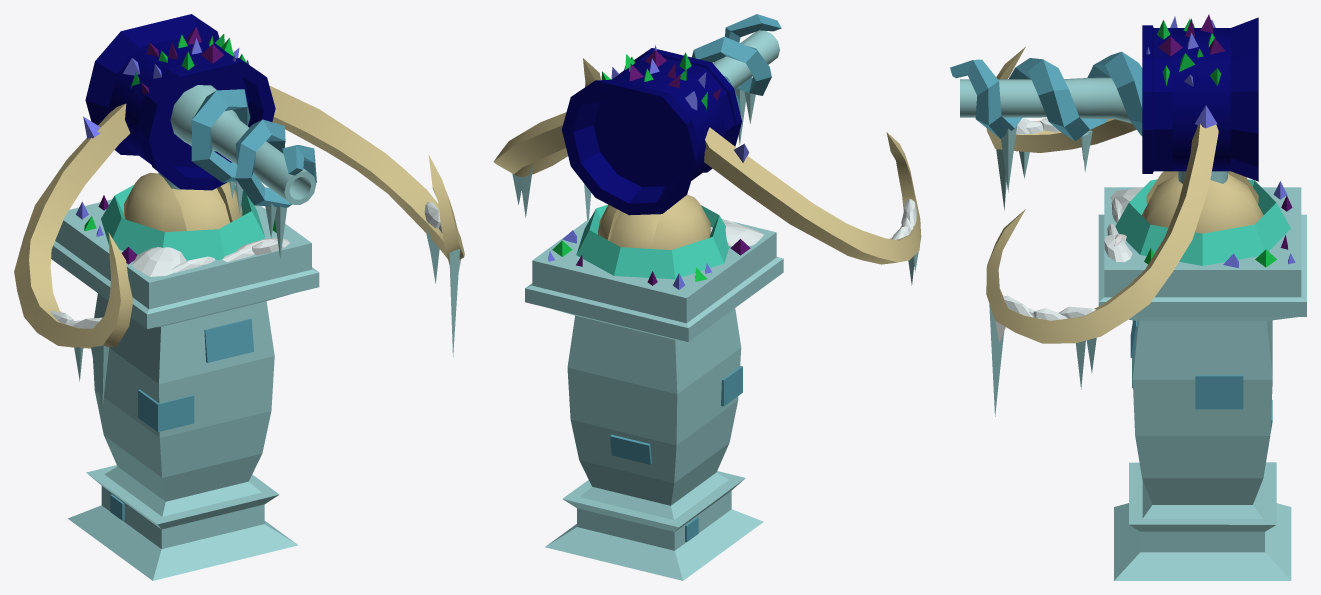
The model's file is Freeze.fbx.
The picture shows the model from 3 angles, left to right: view 1: azimuth 30°, elevation 25°; view 2: azimuth 150°, elevation 25°; view 3: azimuth 270°, elevation 25°; orthographic projection. The views are drawn at different scales.
Parts seen in each view (by area): view 1: Box002, Cylinder002, Box008, Box009, Cylinder004, Torus001, Sphere001, Cylinder003, Box003, Box006, Sphere012, Cone015 (+1 smaller); view 2: Box002, Cylinder002, Box008, Torus001, Sphere001, Box009, Cylinder004, Cylinder003, Box005, Sphere012, Box003; view 3: Box002, Cylinder002, Box009, Cylinder004, Torus001, Sphere001, Cylinder003, Box008, Box004, Cone015, Cone008, Sphere009.
Boxes of the visible parts, x1,y1,x2,y2 form: Box002: (51,199,319,580); Cylinder002: (85,14,275,190); Box008: (14,103,133,348); Box009: (269,86,464,264); Cylinder004: (190,89,316,207); Torus001: (101,185,265,260); Sphere001: (124,172,242,232); Cylinder003: (170,85,316,204); Box003: (138,389,194,431); Box006: (204,319,253,362); Sphere012: (132,247,186,276); Cone015: (449,249,459,357); Box002: (525,217,783,580); Cylinder002: (562,48,741,215); Box008: (704,127,920,264); Torus001: (576,204,729,279); Sphere001: (598,194,710,249); Box009: (493,58,600,177); Cylinder004: (691,14,781,113); Cylinder003: (713,30,779,89); Box005: (610,434,651,464); Sphere012: (710,223,763,246); Box003: (721,366,742,406); Box002: (1098,187,1306,580); Cylinder002: (1142,17,1258,181); Box009: (986,124,1218,343); Cylinder004: (950,51,1142,141); Torus001: (1115,179,1290,265); Sphere001: (1141,171,1263,233); Cylinder003: (960,77,1131,123); Box008: (986,47,1136,152); Box004: (1195,375,1243,409); Cone015: (989,304,1004,416); Cone008: (1001,122,1017,191); Sphere009: (1104,235,1132,262).
Bounding box in the file's own units: 102 × 116 × 72.6.
